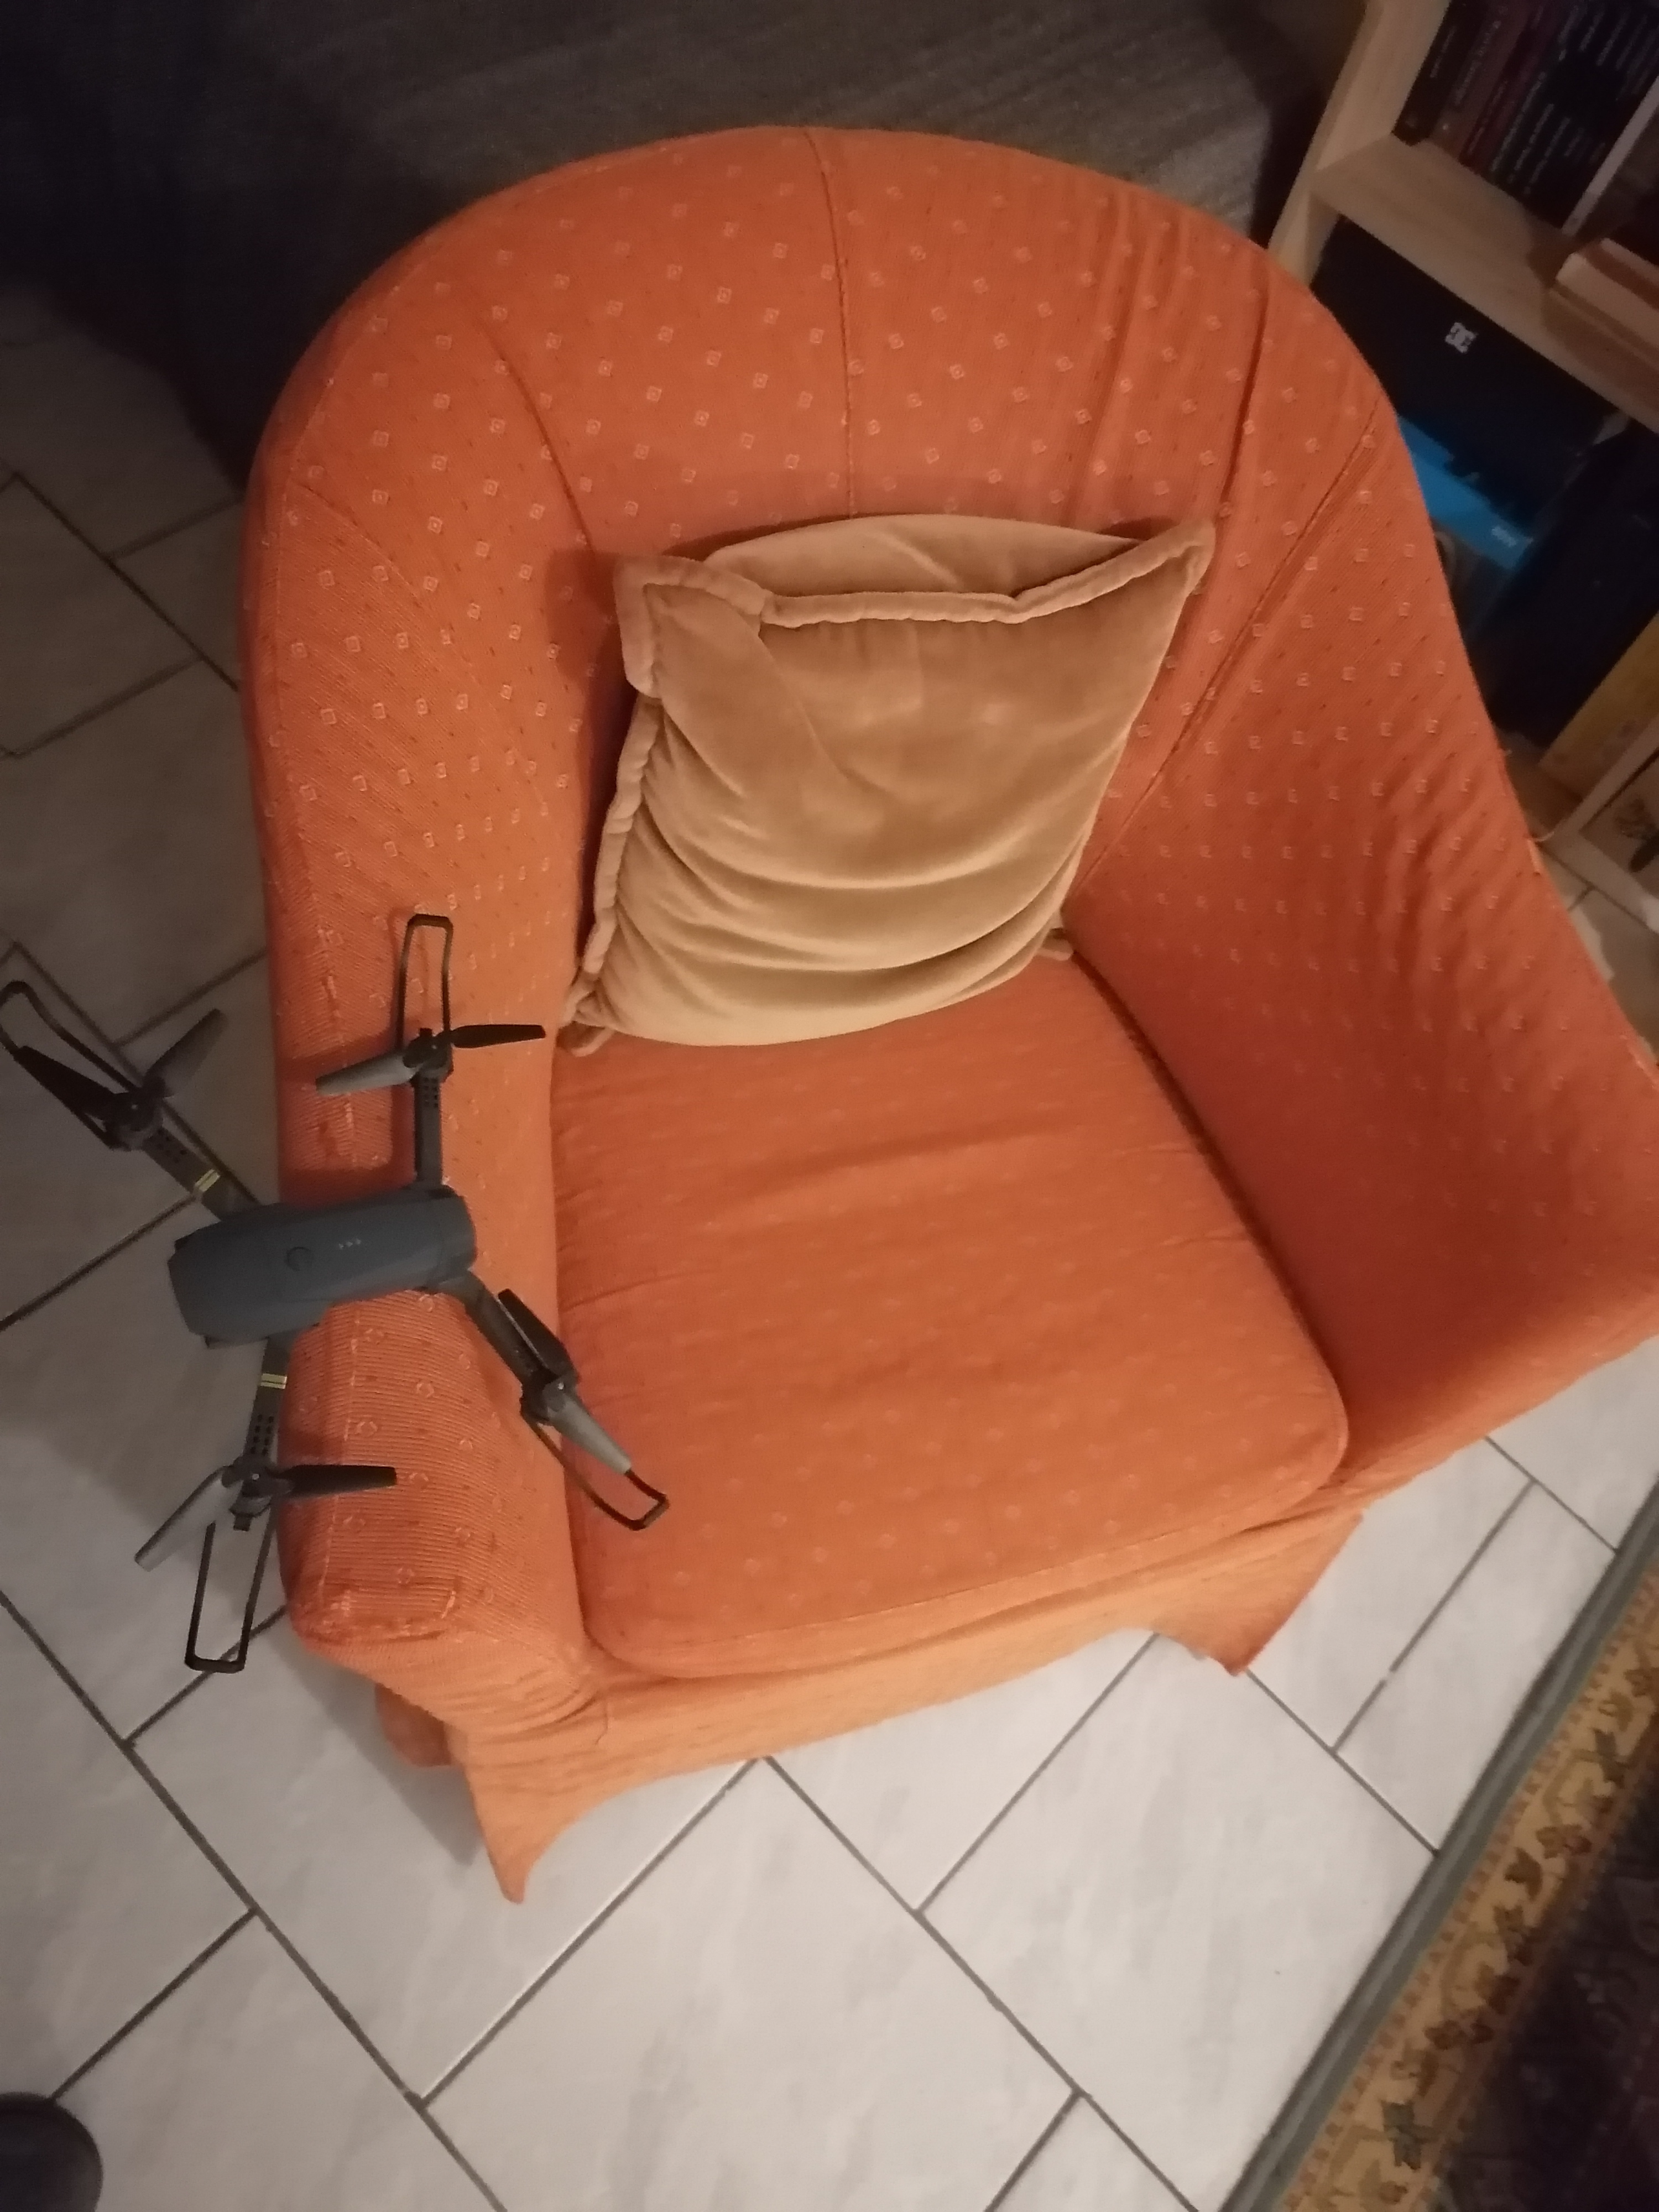drone: (12, 989, 701, 1686)
